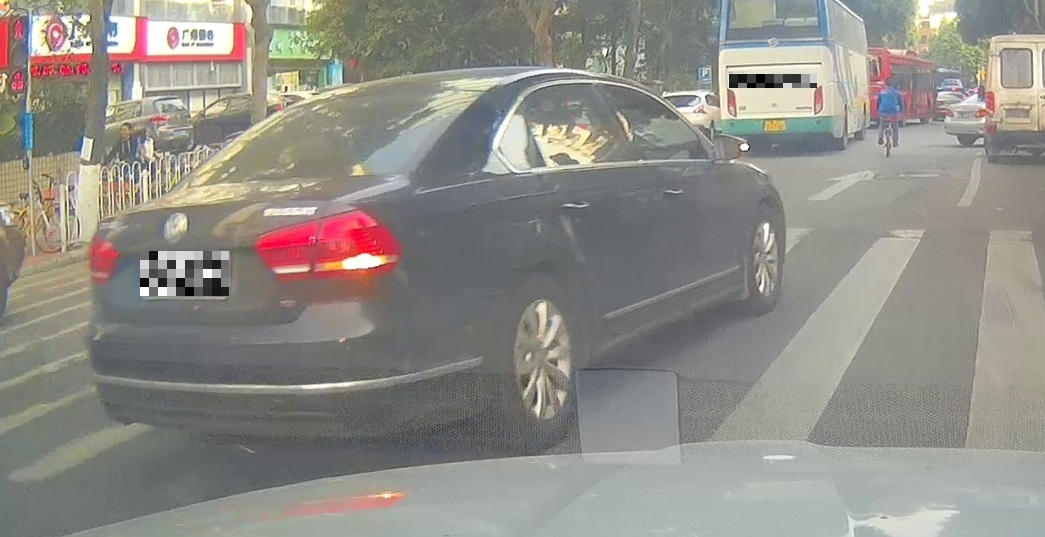L_light: (87, 238, 118, 281)
R_light: (254, 207, 400, 282)
T_light: (363, 91, 417, 102)
day-right: (85, 67, 479, 457)
plate_1: (140, 251, 229, 296)
plate_2: (729, 74, 817, 88)
